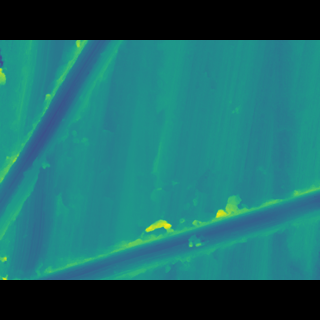Loch: (23, 179, 320, 253), (0, 67, 129, 220)
